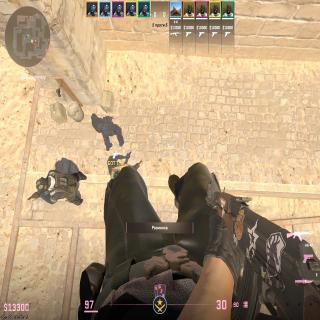CT-Body: (36, 169, 88, 206)
CT-Head: (36, 176, 50, 194)
